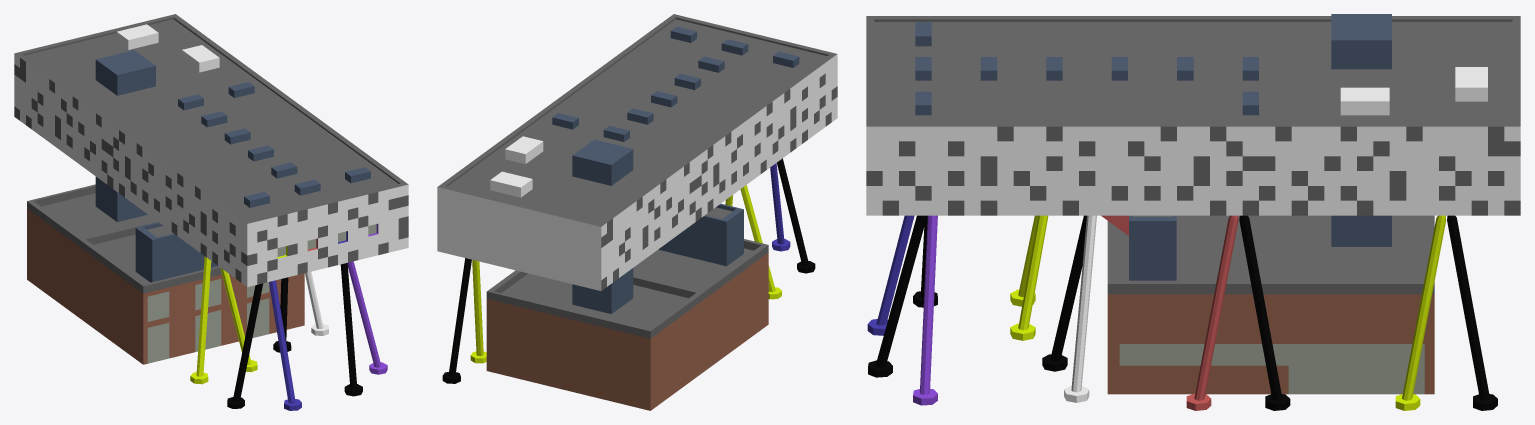
The model's file is OCAD MODEL.fbx.
3 views of the same model, side by side, from view 1: azimuth 30°, elevation 25°; view 2: azimuth 150°, elevation 25°; view 3: azimuth 270°, elevation 25° (orthographic). The views are drawn at different scales.
Parts seen in each view (by area): view 1: polySurface50; view 2: polySurface50; view 3: polySurface50.
Boxes of the visible parts, x1=… form: polySurface50: x1=14, y1=14, x2=408, y2=410; polySurface50: x1=437, y1=14, x2=837, y2=410; polySurface50: x1=866, y1=14, x2=1520, y2=410.
Bounding box in the file's own units: 9.21 × 10.39 × 20.
